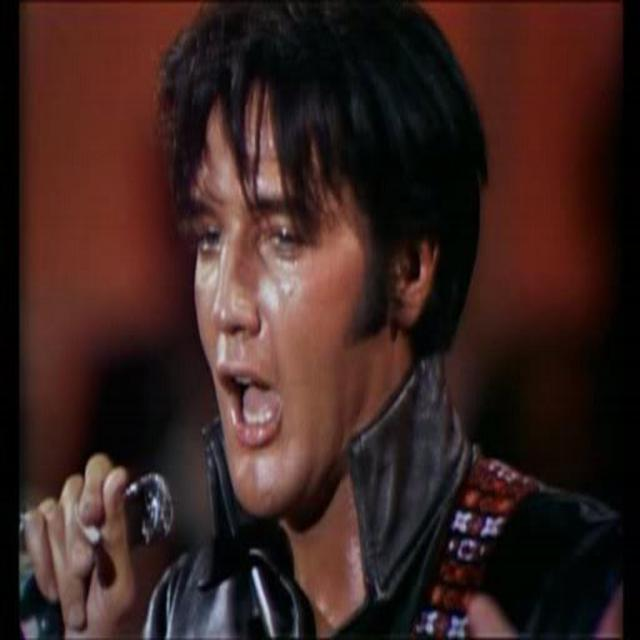nomask: (195, 75, 393, 512)
